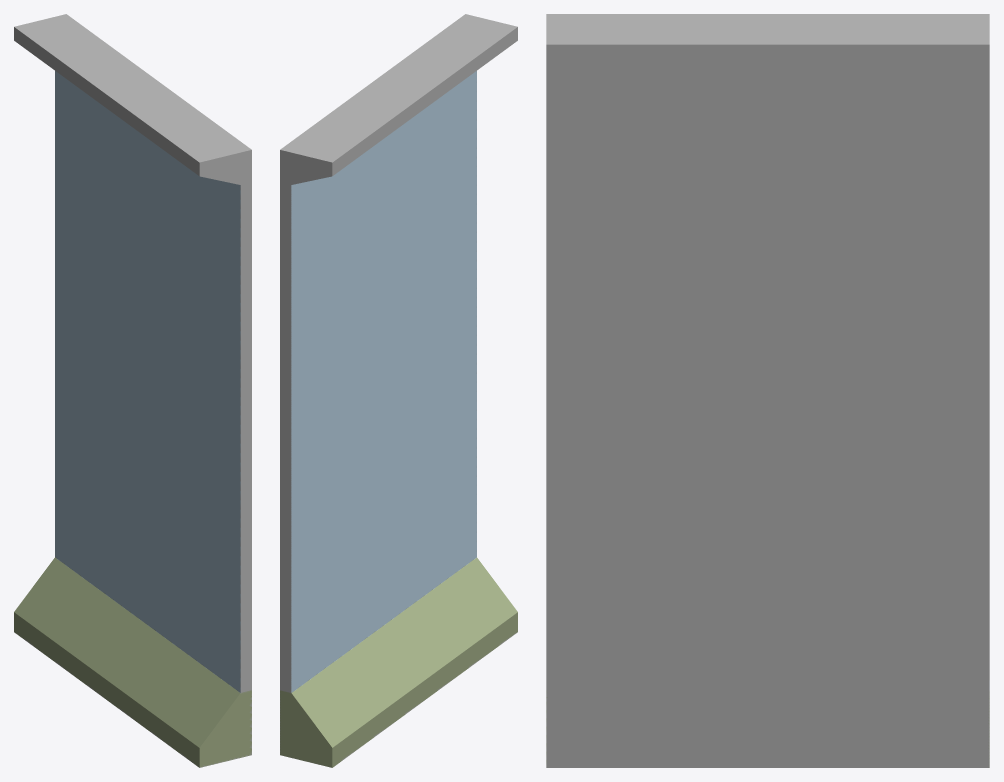
Rendered from Parede Domo.fbx.
3 renders of one model, left to right at view 1: azimuth 30°, elevation 25°; view 2: azimuth 150°, elevation 25°; view 3: azimuth 270°, elevation 25°, orthographic. The views are drawn at different scales.
Visible parts, largest first — view 1: Parede Domo; view 2: Parede Domo; view 3: Parede Domo.
Boxes of the visible parts, left/top/right/bottom form: Parede Domo: left=14, top=14, right=251, bottom=767; Parede Domo: left=280, top=14, right=517, bottom=767; Parede Domo: left=546, top=14, right=989, bottom=767.
Size of the model in its own units: 40.8 by 450 by 250.
